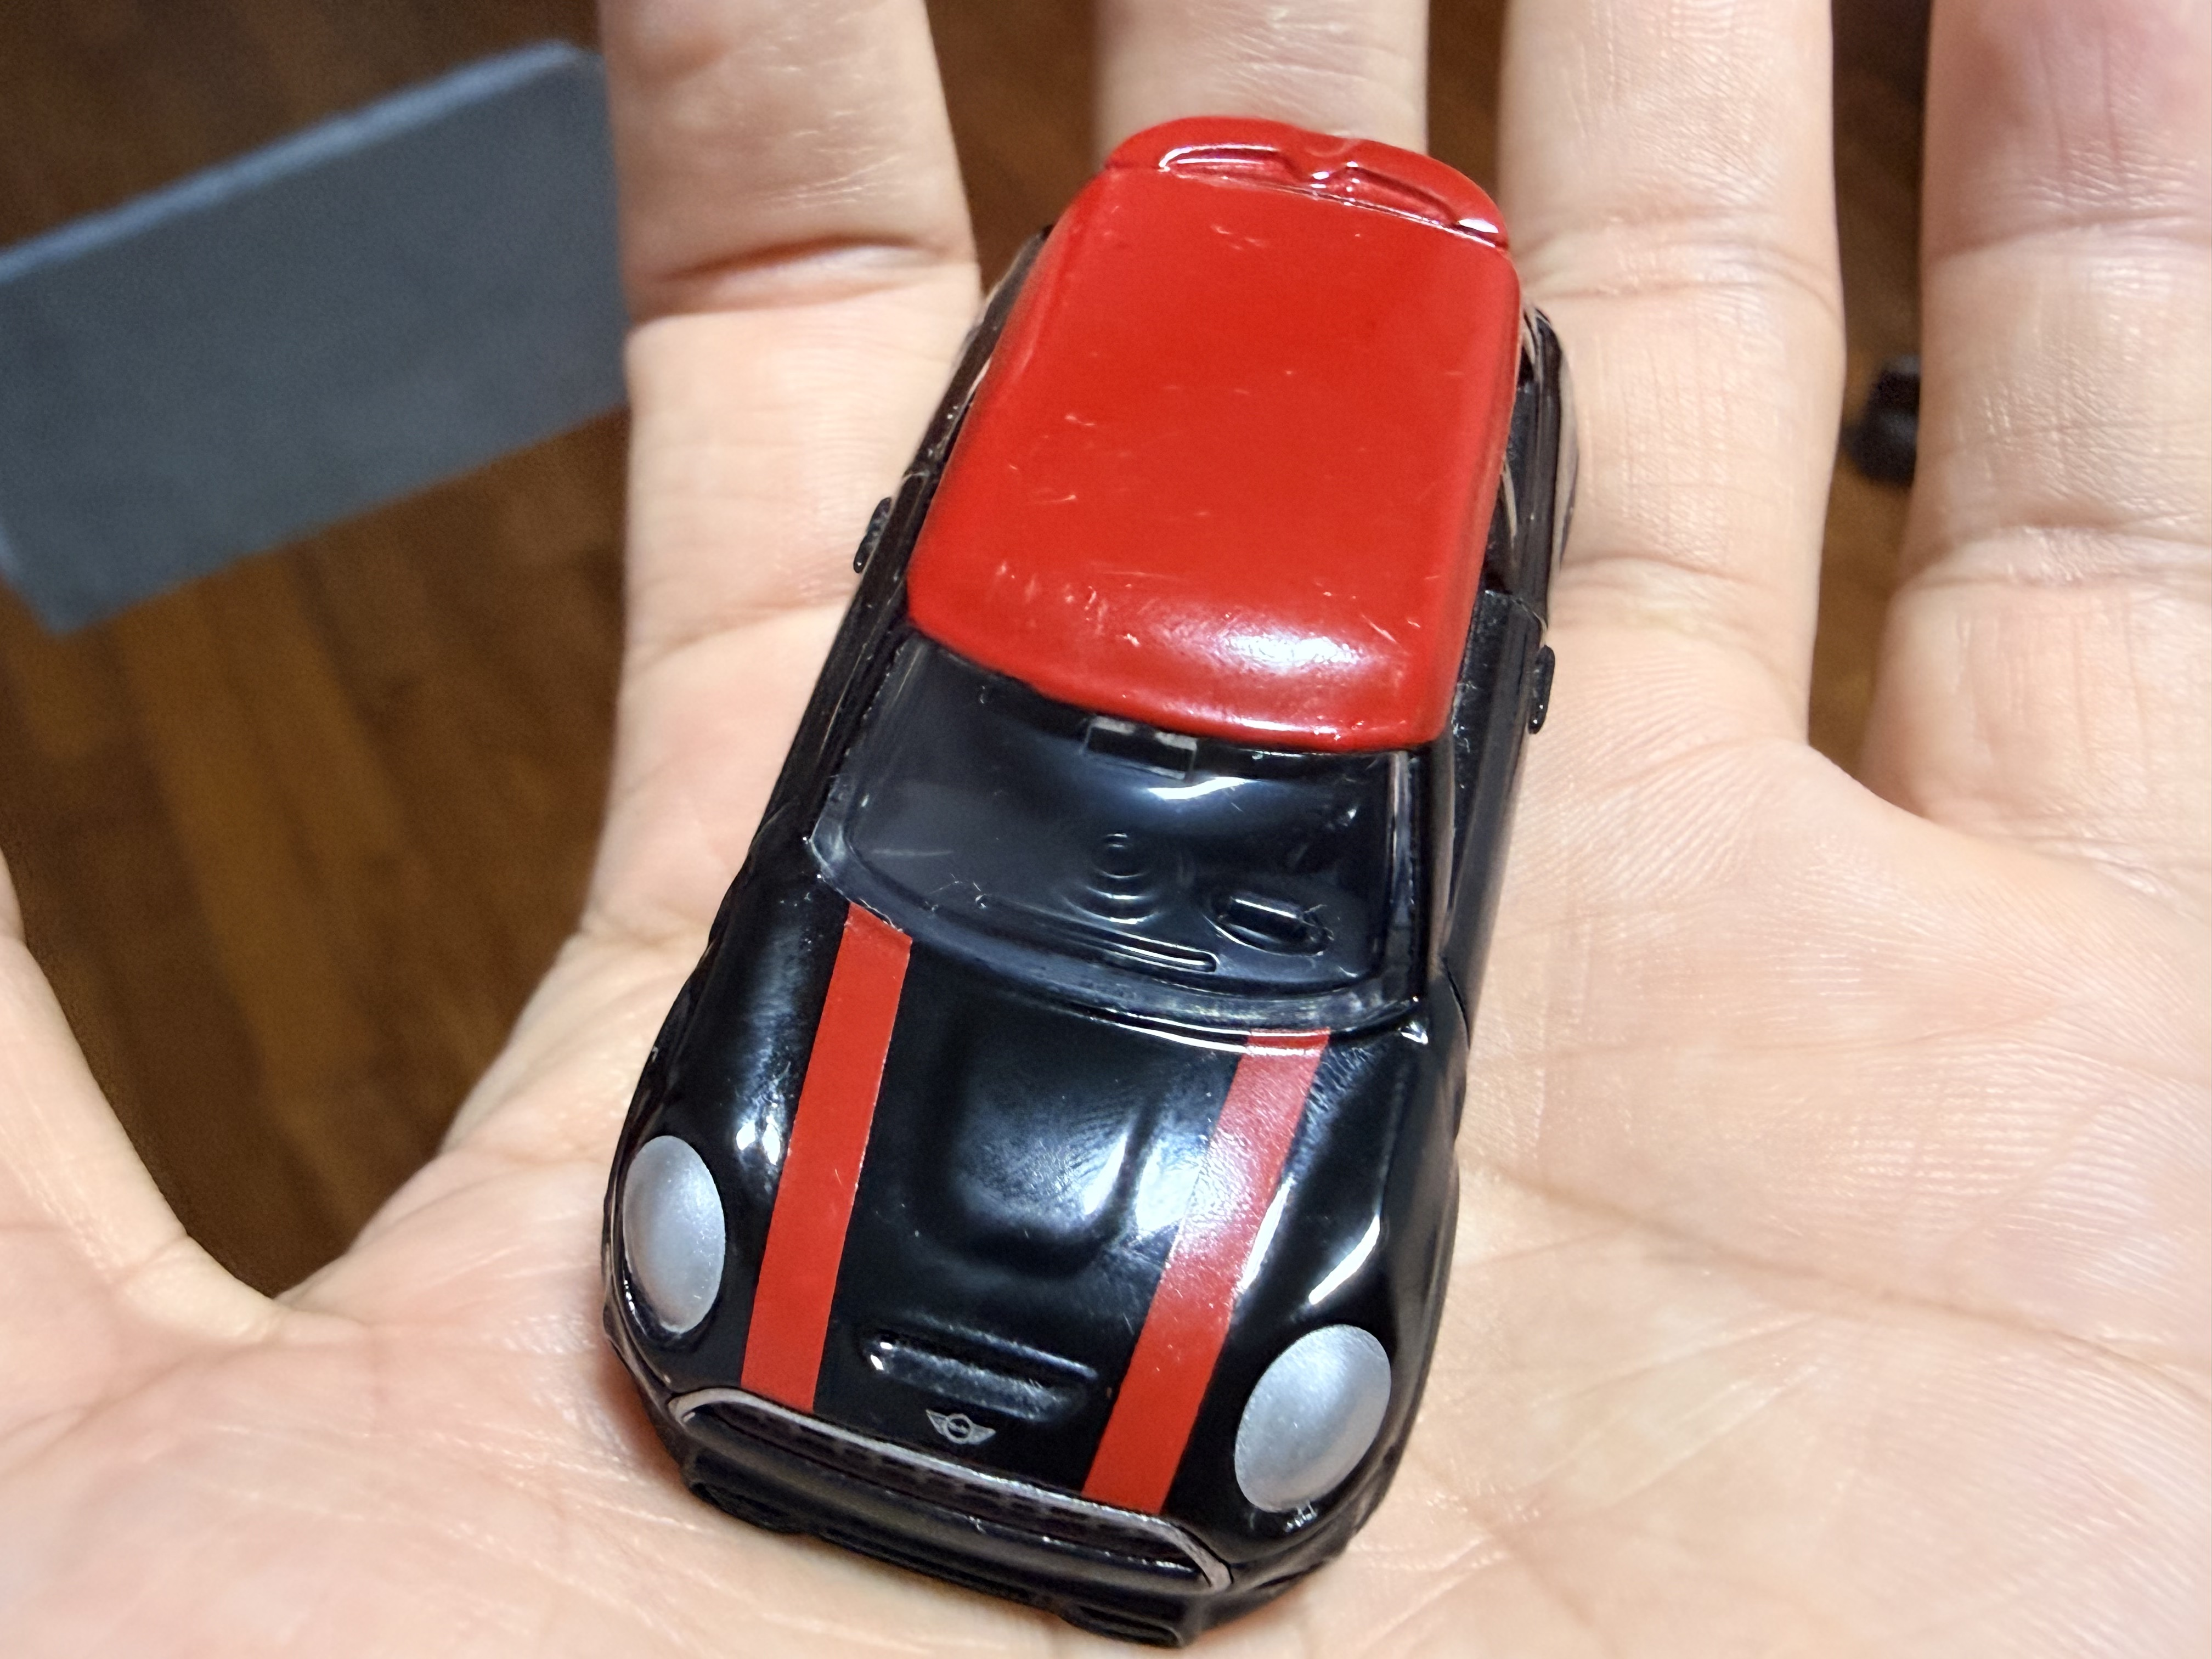mini_cooper: (601, 115, 1580, 1649)
